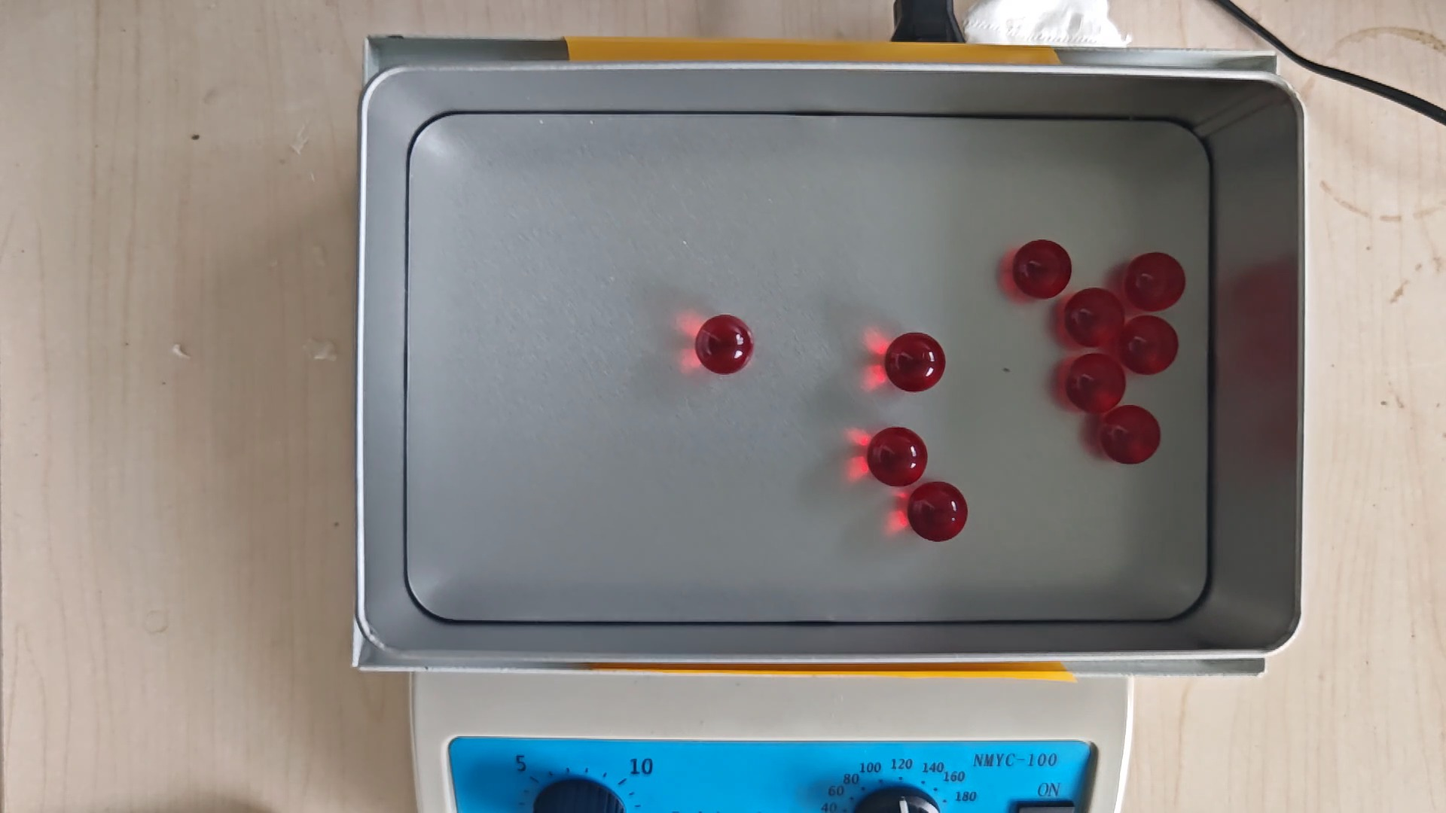ball: (907, 480, 968, 543), (885, 331, 946, 393), (867, 426, 927, 488), (1065, 352, 1125, 413), (1126, 252, 1186, 311), (1101, 405, 1160, 465), (696, 314, 754, 375), (1013, 239, 1071, 299), (1066, 288, 1124, 347), (1121, 315, 1178, 375)
container: (406, 114, 1211, 623)
